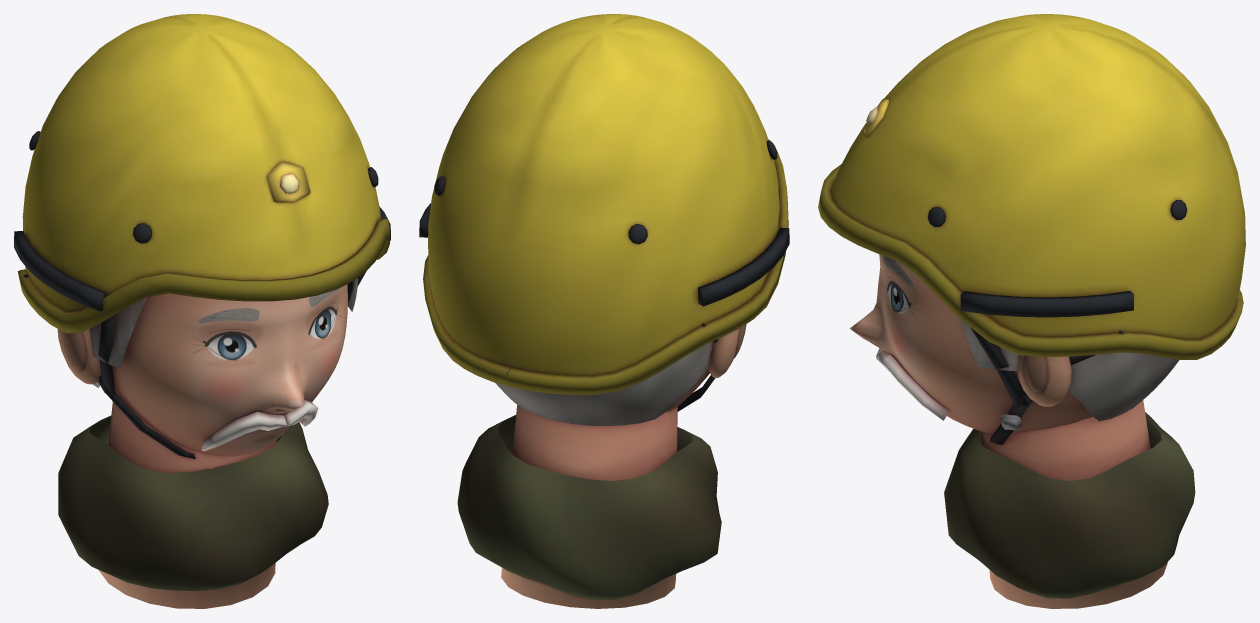
Rendered from cabeza-mortar-m.glb.
3 renders of one model, left to right at view 1: azimuth 30°, elevation 25°; view 2: azimuth 150°, elevation 25°; view 3: azimuth 270°, elevation 25°, orthographic.
Visible parts, largest first — view 1: h_Head; view 2: h_Head; view 3: h_Head.
Part boxes in pixels (left/top/right/bottom): h_Head: left=14, top=14, right=390, bottom=608; h_Head: left=419, top=14, right=789, bottom=608; h_Head: left=818, top=14, right=1245, bottom=608.
Bounding box in the file's own units: 0.2559 × 0.4266 × 0.2996.
1 material, 1 textured.
